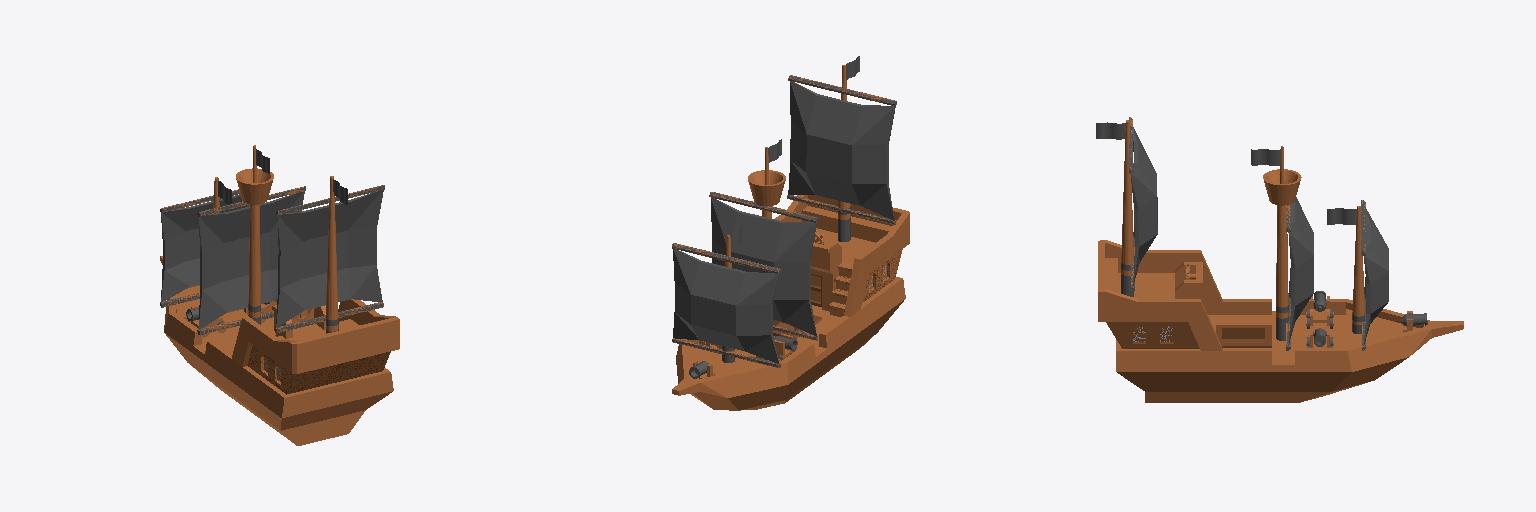
The model's file is ship_dark.obj.
3 views of the same model, side by side, from view 1: azimuth 30°, elevation 25°; view 2: azimuth 150°, elevation 25°; view 3: azimuth 270°, elevation 25° (orthographic).
Visible parts, largest first — view 1: ship_dark, sail_back, sail_middle, sail_front; view 2: ship_dark, sail_back, sail_front, sail_middle; view 3: ship_dark, sail_back, sail_middle, sail_front, cannon_left.
Boxes of the visible parts, box(x1,y1,x2,y2) form: ship_dark: box(160, 145, 399, 445); sail_back: box(275, 185, 384, 332); sail_middle: box(197, 186, 305, 334); sail_front: box(160, 189, 249, 307); ship_dark: box(672, 56, 909, 410); sail_back: box(787, 75, 896, 224); sail_front: box(672, 243, 780, 367); sail_middle: box(709, 192, 817, 340); ship_dark: box(1096, 120, 1463, 402); sail_back: box(1129, 117, 1157, 291); sail_middle: box(1286, 197, 1313, 350); sail_front: box(1361, 200, 1388, 350); cannon_left: box(1306, 291, 1333, 328).
Size of the model in its own units: 28.5 by 65.46 by 80.98.